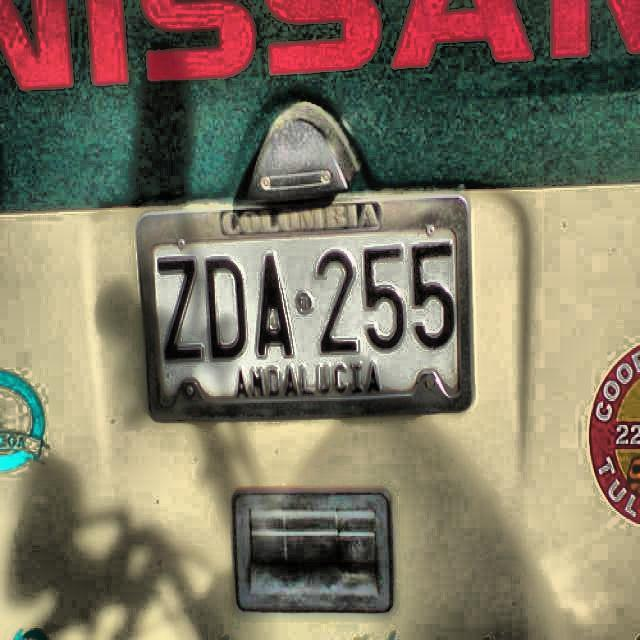plate: (142, 206, 471, 415)
